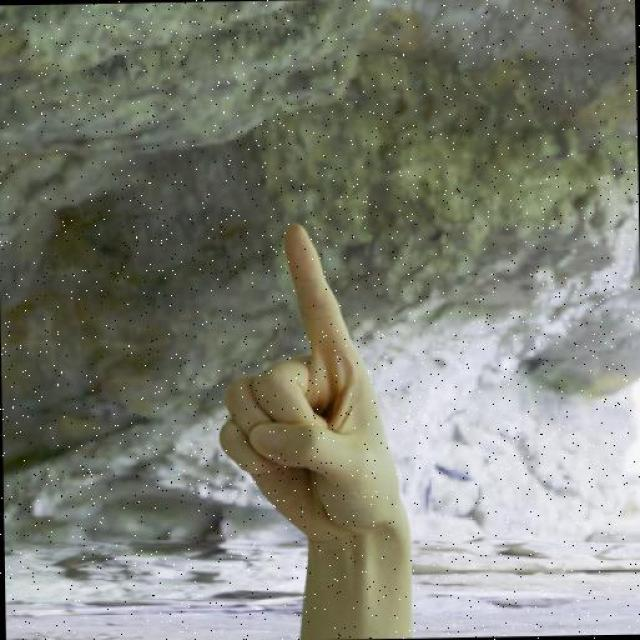Z: (211, 217, 414, 549)
